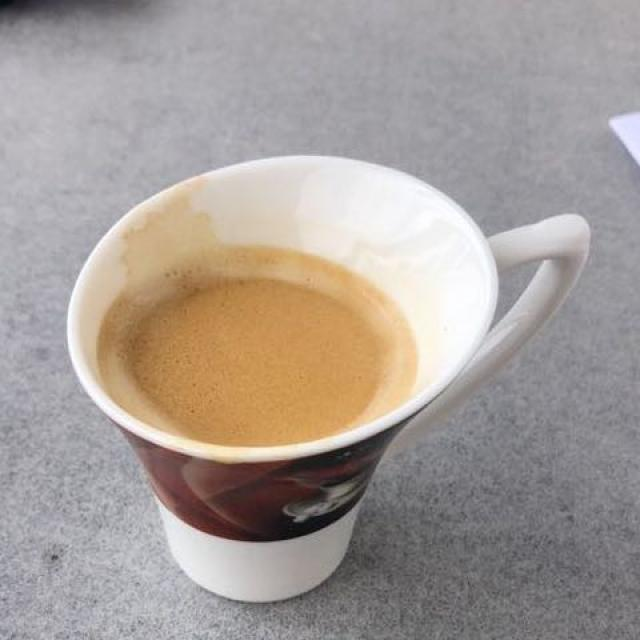drink: (118, 265, 413, 441)
